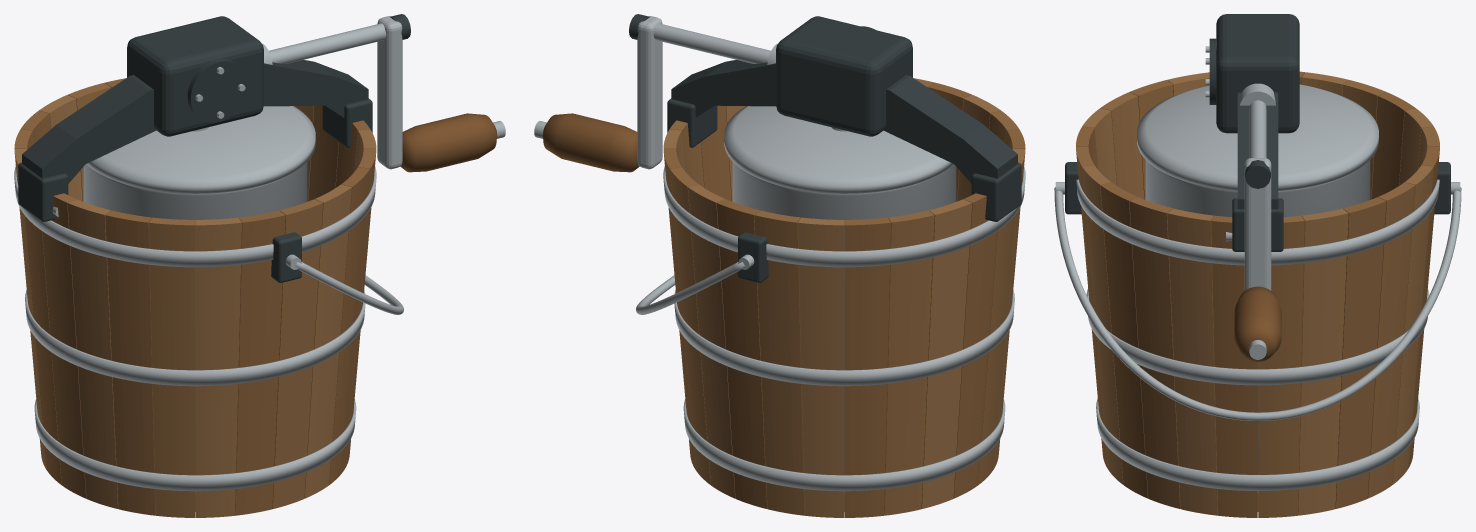
3 renders of one model, left to right at view 1: azimuth 30°, elevation 25°; view 2: azimuth 150°, elevation 25°; view 3: azimuth 270°, elevation 25°, orthographic.
Parts seen in each view (by area): view 1: Removable canister lid exterior, One-piece arched gear bridge, Closed wooden bucket stave 15, Closed wooden bucket stave 16, Closed wooden bucket stave 14, Closed wooden bucket stave 17, Closed generic gear housing, Closed wooden bucket stave 13, Closed wooden bucket stave 18, Closed inner freezer canister, Closed wooden bucket stave 19, Closed wooden bucket stave 12 (+20 smaller); view 2: Removable canister lid exterior, Closed generic gear housing, One-piece arched gear bridge, Closed wooden bucket stave 8, Closed wooden bucket stave 7, Closed wooden bucket stave 9, Closed wooden bucket stave 6, Closed wooden bucket stave 10, Closed wooden bucket stave 5, Closed inner freezer canister, Closed wooden bucket stave 4, Closed wooden bucket stave 11 (+19 smaller); view 3: Removable canister lid exterior, Closed wooden bucket stave 1, Closed wooden bucket stave 22, Closed wooden bucket stave 2, Closed wooden bucket stave 21, Closed wooden bucket stave 0, Closed wooden bucket stave 23, Closed generic gear housing, Closed wooden bucket stave 20, Closed wooden bucket stave 3, Lowered outward carry bail, Closed inner freezer canister (+27 smaller).
Boxes of the visible parts, left/top/right/bottom form: Removable canister lid exterior: left=86, top=106, right=315, bottom=193; One-piece arched gear bridge: left=22, top=60, right=368, bottom=183; Closed wooden bucket stave 15: left=149, top=217, right=195, bottom=517; Closed wooden bucket stave 16: left=195, top=217, right=241, bottom=517; Closed wooden bucket stave 14: left=105, top=210, right=155, bottom=515; Closed wooden bucket stave 17: left=235, top=210, right=285, bottom=515; Closed generic gear housing: left=127, top=16, right=263, bottom=136; Closed wooden bucket stave 13: left=67, top=199, right=118, bottom=508; Closed wooden bucket stave 18: left=272, top=199, right=323, bottom=508; Closed inner freezer canister: left=83, top=162, right=307, bottom=474; Closed wooden bucket stave 19: left=304, top=184, right=351, bottom=498; Closed wooden bucket stave 12: left=42, top=193, right=86, bottom=498; Removable canister lid exterior: left=724, top=106, right=953, bottom=193; Closed generic gear housing: left=776, top=16, right=912, bottom=136; One-piece arched gear bridge: left=671, top=60, right=1017, bottom=183; Closed wooden bucket stave 8: left=844, top=217, right=890, bottom=517; Closed wooden bucket stave 7: left=798, top=217, right=844, bottom=517; Closed wooden bucket stave 9: left=884, top=210, right=934, bottom=515; Closed wooden bucket stave 6: left=754, top=210, right=804, bottom=515; Closed wooden bucket stave 10: left=921, top=199, right=972, bottom=508; Closed wooden bucket stave 5: left=716, top=199, right=767, bottom=508; Closed inner freezer canister: left=732, top=162, right=956, bottom=474; Closed wooden bucket stave 4: left=688, top=184, right=735, bottom=498; Closed wooden bucket stave 11: left=953, top=193, right=997, bottom=498; Removable canister lid exterior: left=1137, top=84, right=1378, bottom=190; Closed wooden bucket stave 1: left=1298, top=208, right=1348, bottom=515; Closed wooden bucket stave 22: left=1167, top=208, right=1217, bottom=515; Closed wooden bucket stave 2: left=1335, top=197, right=1386, bottom=508; Closed wooden bucket stave 21: left=1129, top=197, right=1180, bottom=508; Closed wooden bucket stave 0: left=1258, top=215, right=1304, bottom=517; Closed wooden bucket stave 23: left=1211, top=215, right=1257, bottom=517; Closed generic gear housing: left=1216, top=14, right=1299, bottom=133; Closed wooden bucket stave 20: left=1100, top=182, right=1148, bottom=498; Closed wooden bucket stave 3: left=1367, top=182, right=1415, bottom=498; Lowered outward carry bail: left=1054, top=187, right=1461, bottom=420; Closed inner freezer canister: left=1145, top=160, right=1370, bottom=474.
Bounding box in the file's own units: 0.5115 × 0.429 × 0.38.
